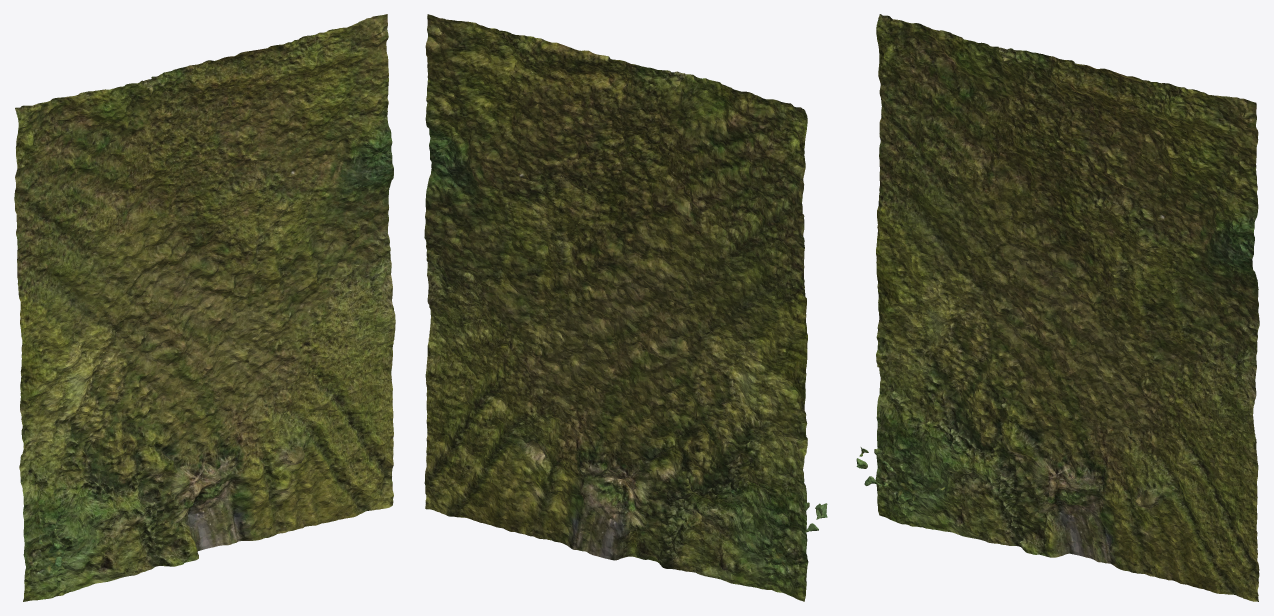
Rendered from Tile_+000_+004.gltf.
The picture shows the model from 3 angles, left to right: view 1: azimuth 30°, elevation 25°; view 2: azimuth 150°, elevation 25°; view 3: azimuth 330°, elevation 25°; orthographic projection.
Visible parts, largest first — view 1: Node; view 2: Node; view 3: Node.
Part boxes in pixels (box(x1,y1,x2,y2)): Node: box(14, 14, 395, 601); Node: box(424, 14, 827, 601); Node: box(856, 14, 1259, 601).
Bounding box in the file's own units: 24.3 × 30.52 × 3.94.
1 material, 1 textured.
